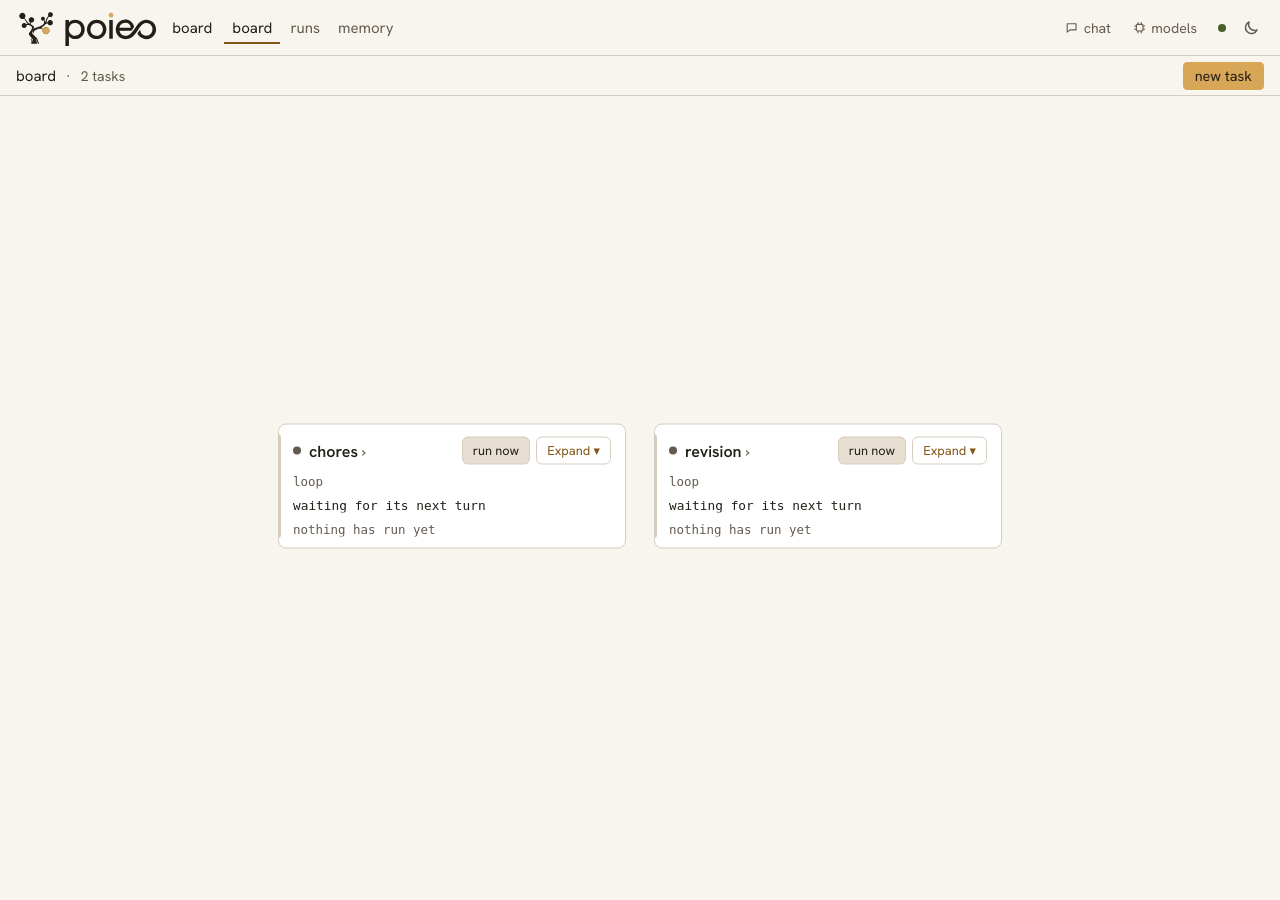
a task picked off a runs lane opens the drawer with runs still on stage
Click the button "runs" at (305, 28), box [282, 12, 328, 44]
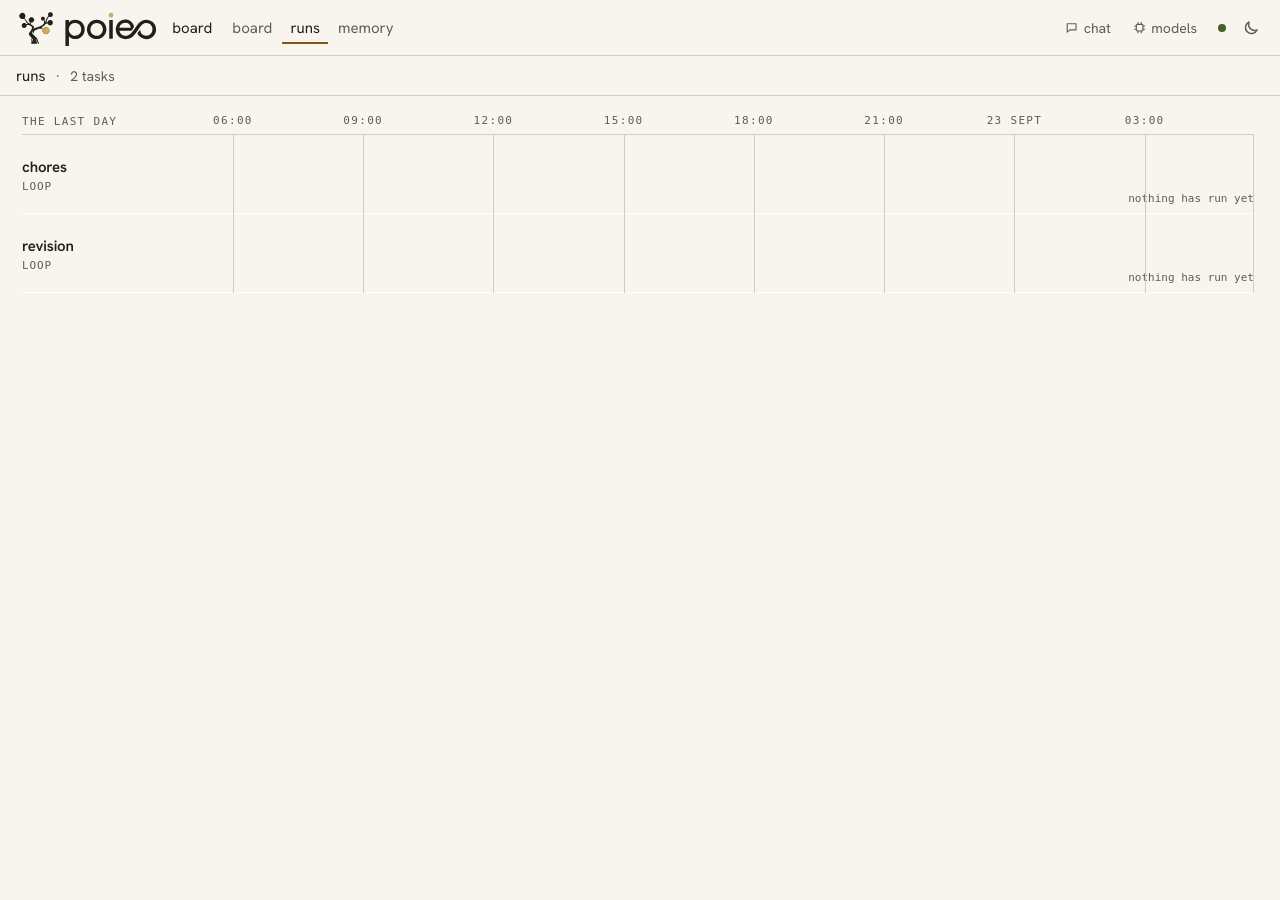
Click the button with class "runs-head" showing "chores loop" at (117, 175), box [22, 157, 212, 193]
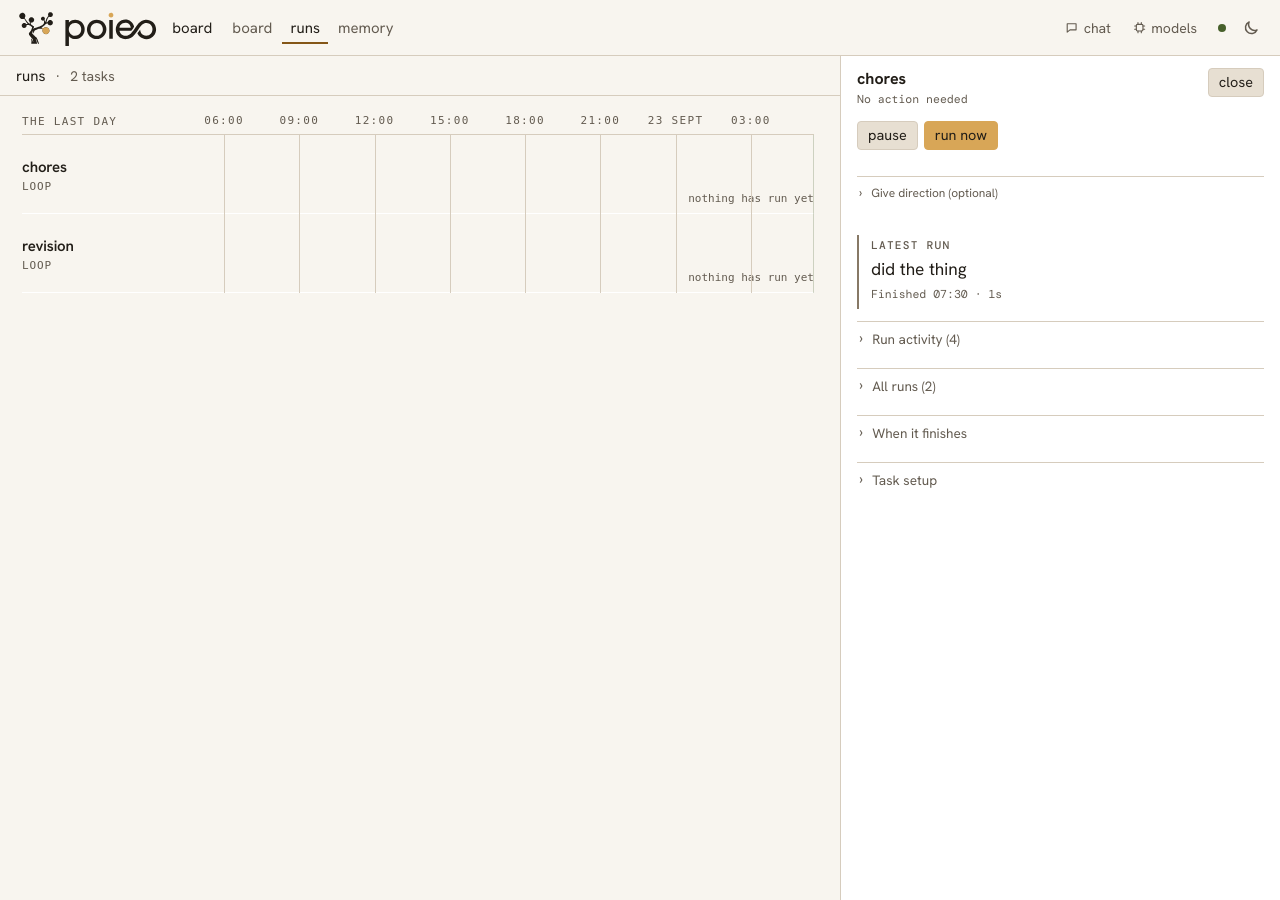
Expected: the element with class "runs" is shown, [22, 114, 814, 293]
Expected: the element with class "drawer" is shown, [840, 56, 1279, 899]
